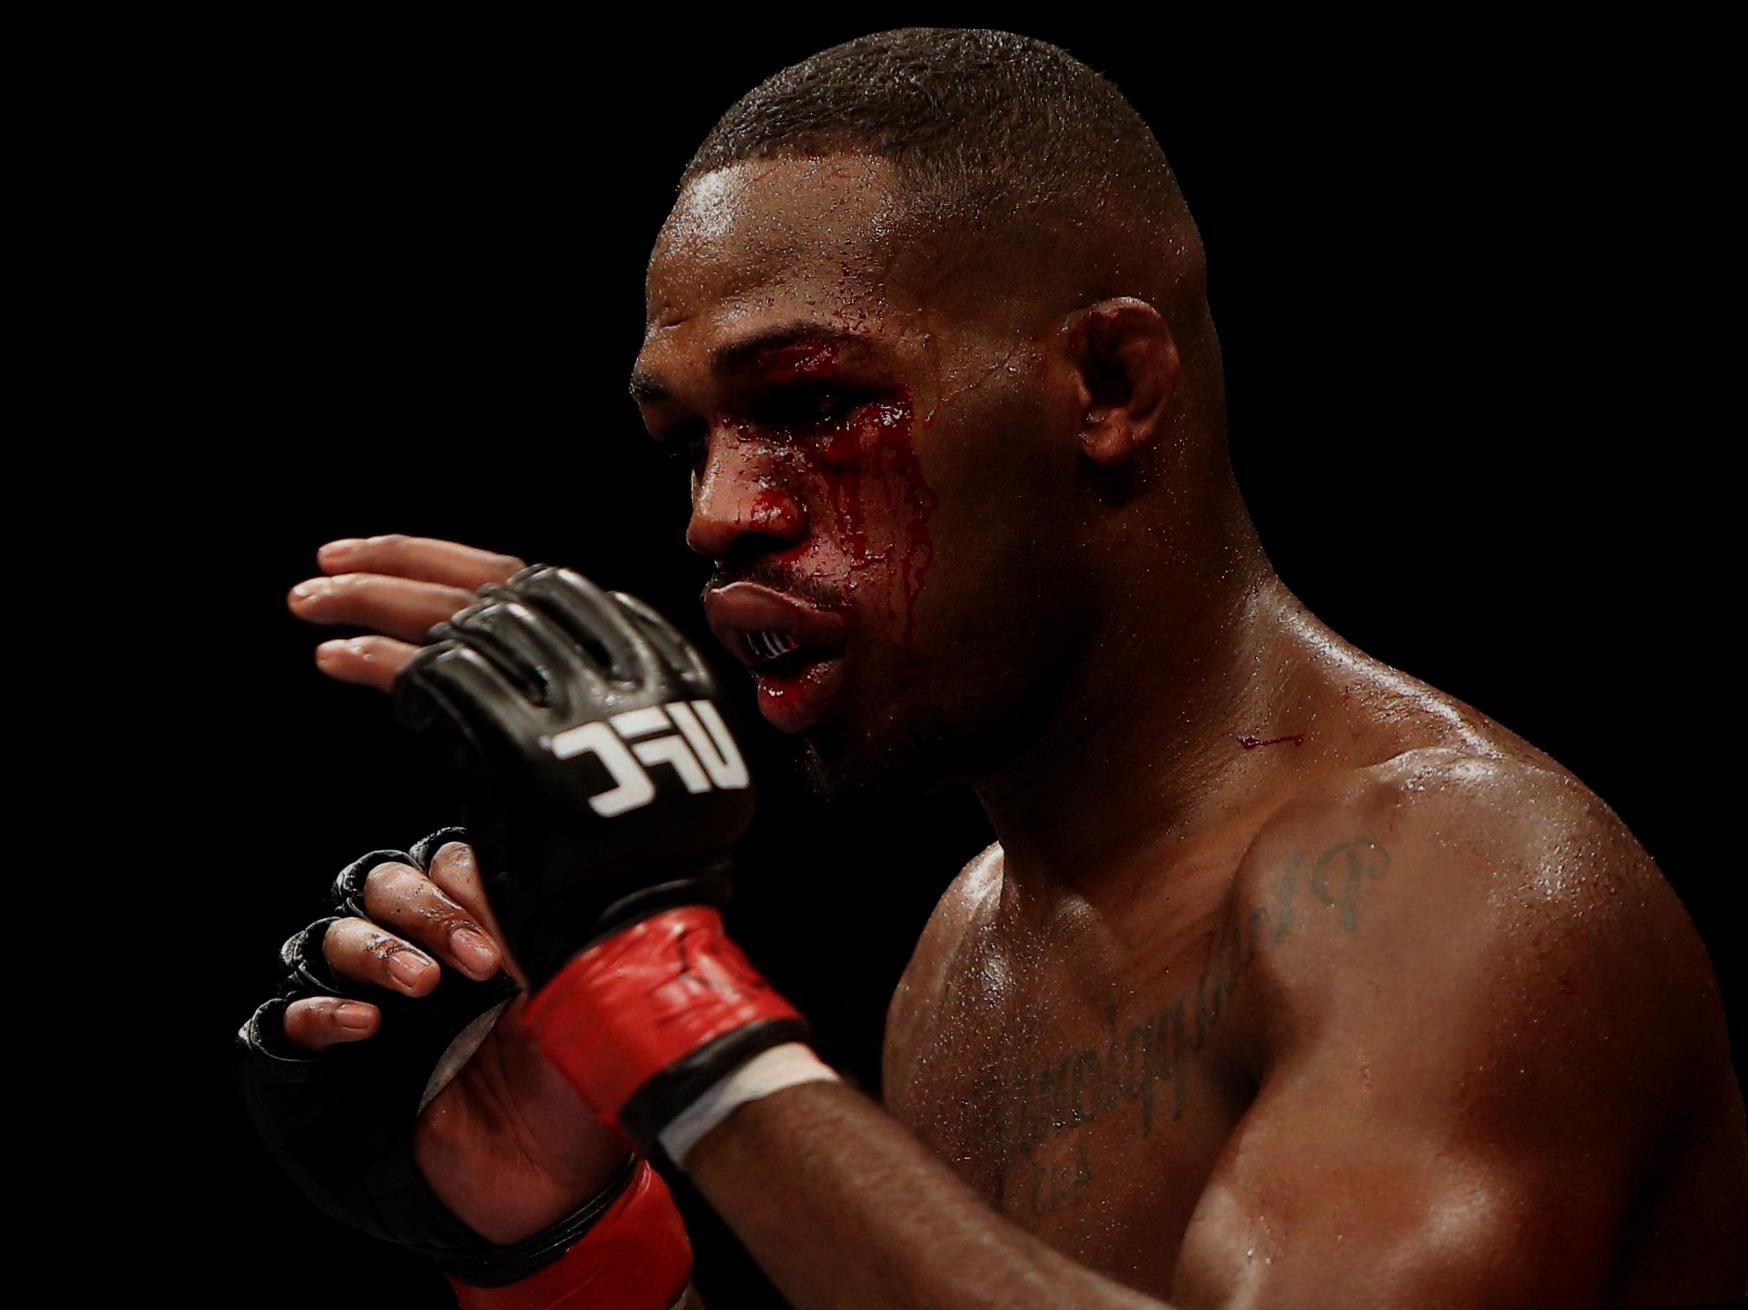Fire: (635, 330, 939, 711), (1235, 722, 1303, 744)
